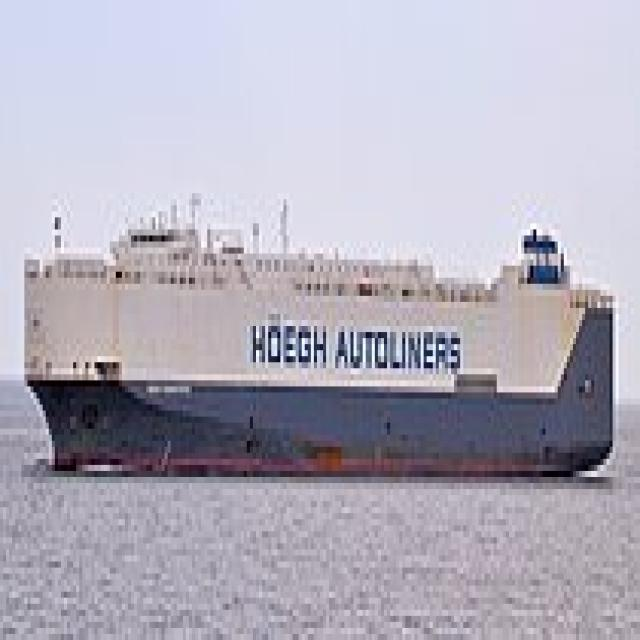Carrier: (18, 181, 616, 477)
